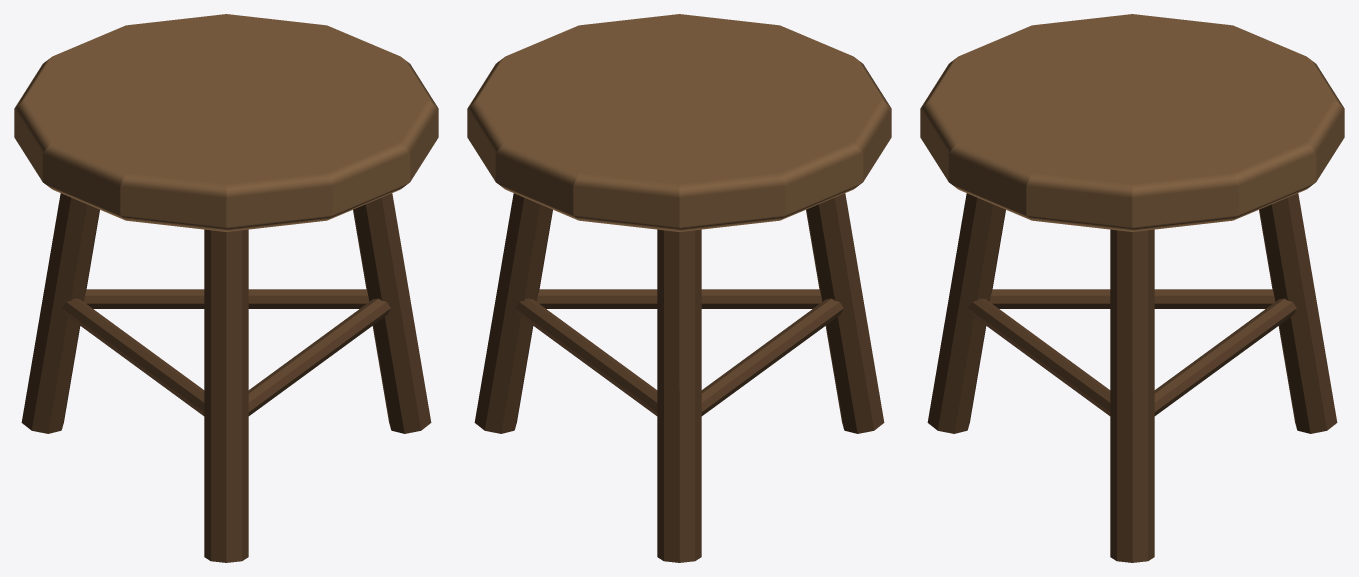
File: Stool.glb
3 views of the same model, side by side, from view 1: azimuth 30°, elevation 25°; view 2: azimuth 150°, elevation 25°; view 3: azimuth 270°, elevation 25° (orthographic).
Visible parts, largest first — view 1: Stool.001; view 2: Stool.001; view 3: Stool.001.
Boxes of the visible parts, x1,y1,x2,y2 form: Stool.001: (14,14,438,562); Stool.001: (467,14,891,562); Stool.001: (920,14,1344,562).
Bounding box in the file's own units: 0.5046 × 0.4642 × 0.48.
